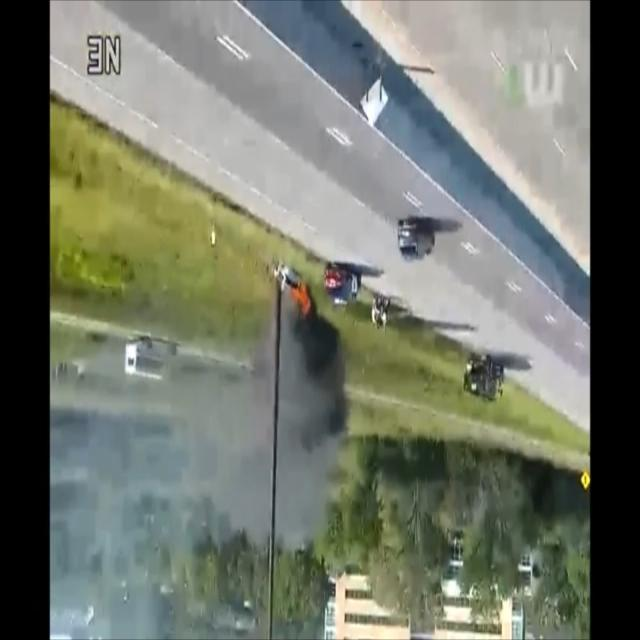fire: (288, 274, 314, 323)
